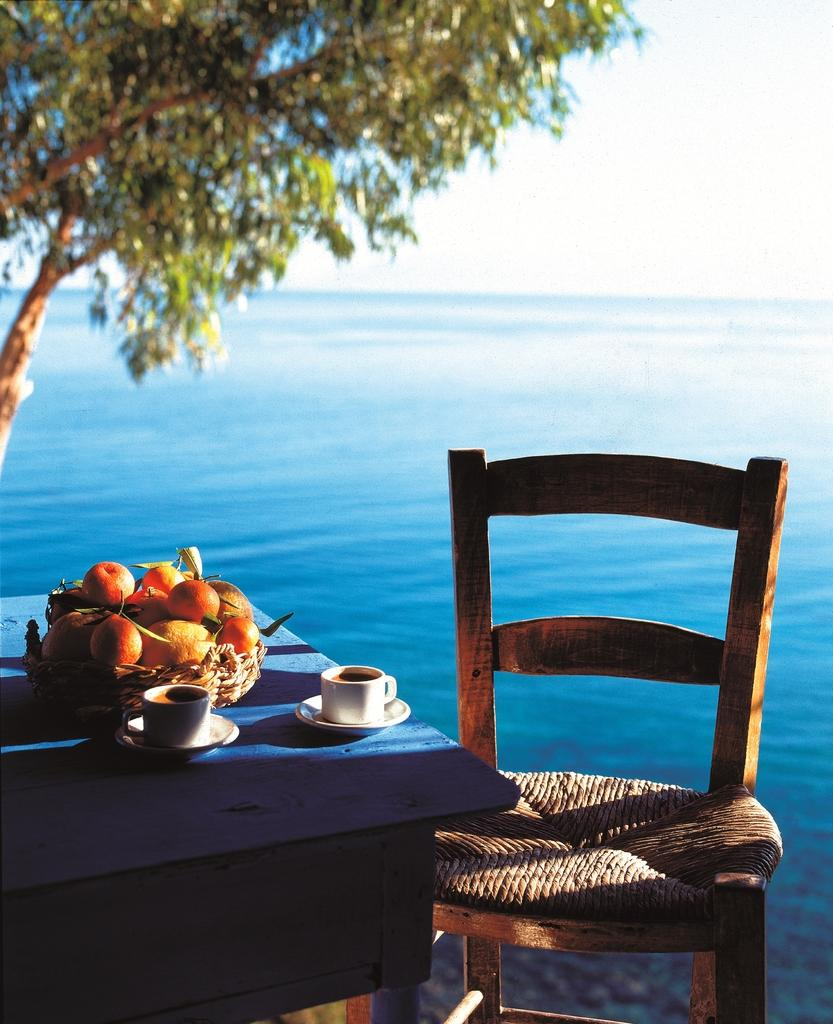Chair: (429, 446, 789, 1022)
